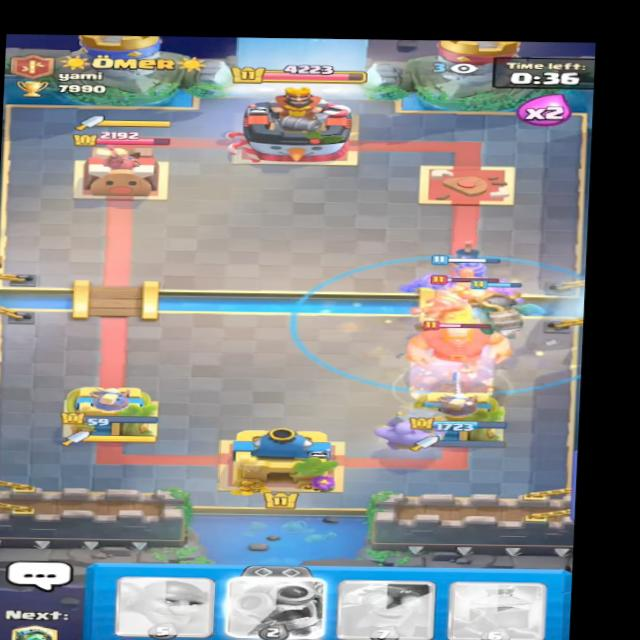Giant: (404, 312, 516, 371)
Goblinmachine: (401, 276, 512, 327)
